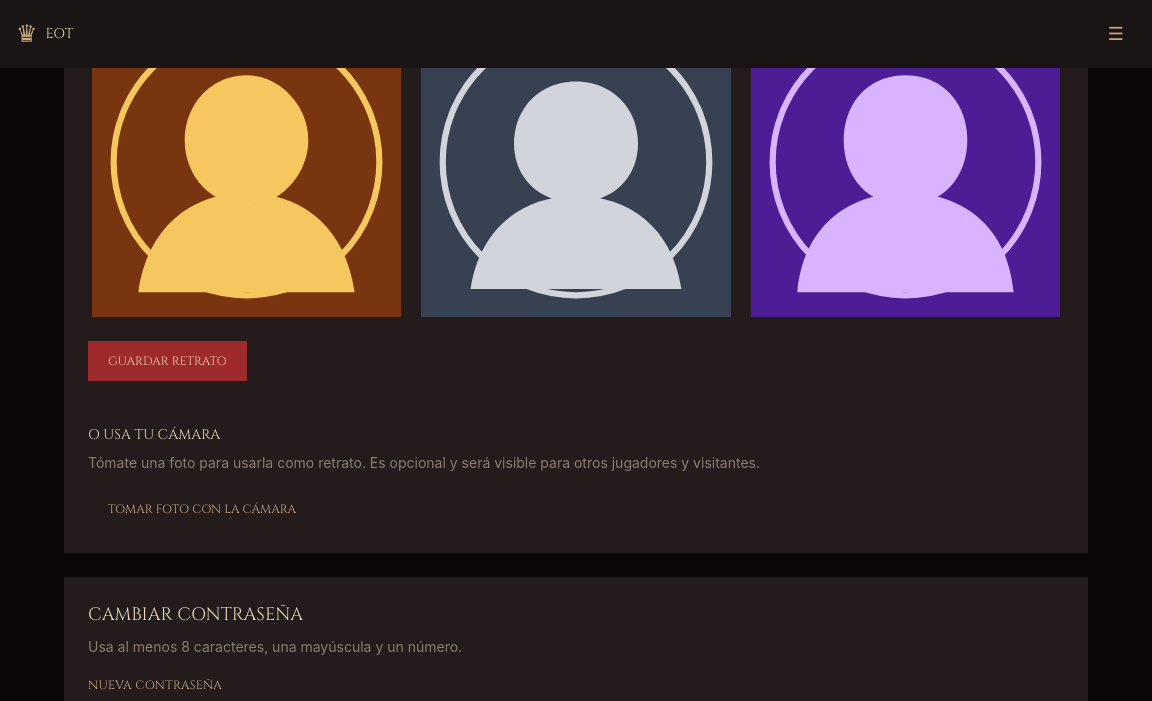
Test: shows why the portrait could not be saved
(page scrolled)
Click the button "Guardar retrato" at coordinates (167, 361), box left=88, top=341, right=247, bottom=381
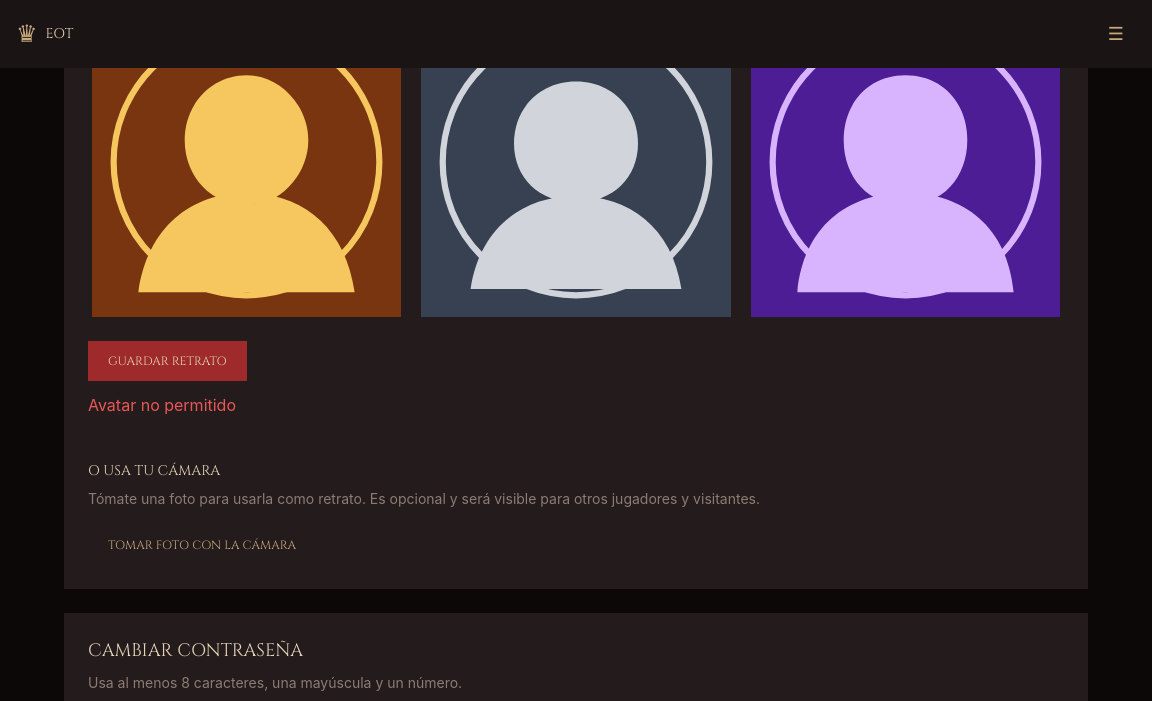
expect the text "Avatar no permitido" is shown: met, box left=88, top=395, right=236, bottom=415
